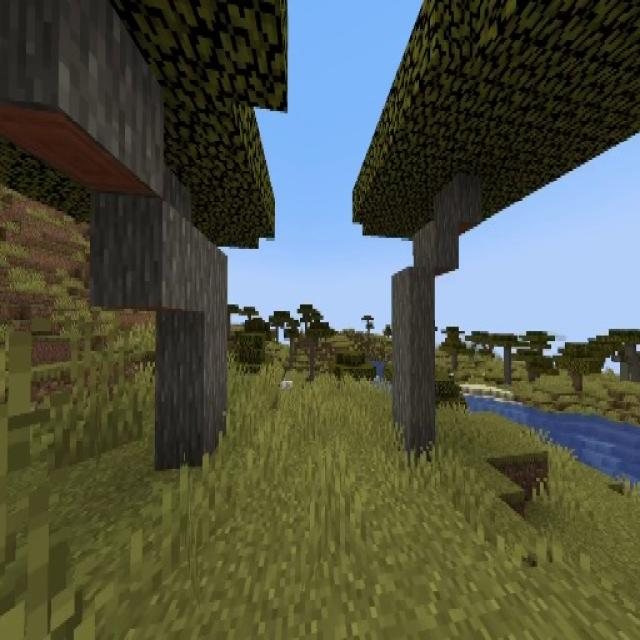acacia: (0, 0, 290, 463), (351, 1, 640, 454)
acacia_log: (89, 191, 228, 464), (6, 0, 164, 194), (390, 180, 477, 459)
